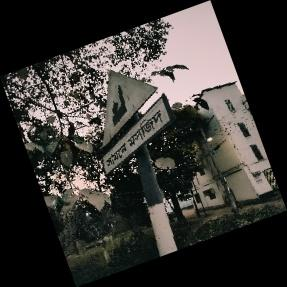Mosque in front: (98, 70, 176, 176)
